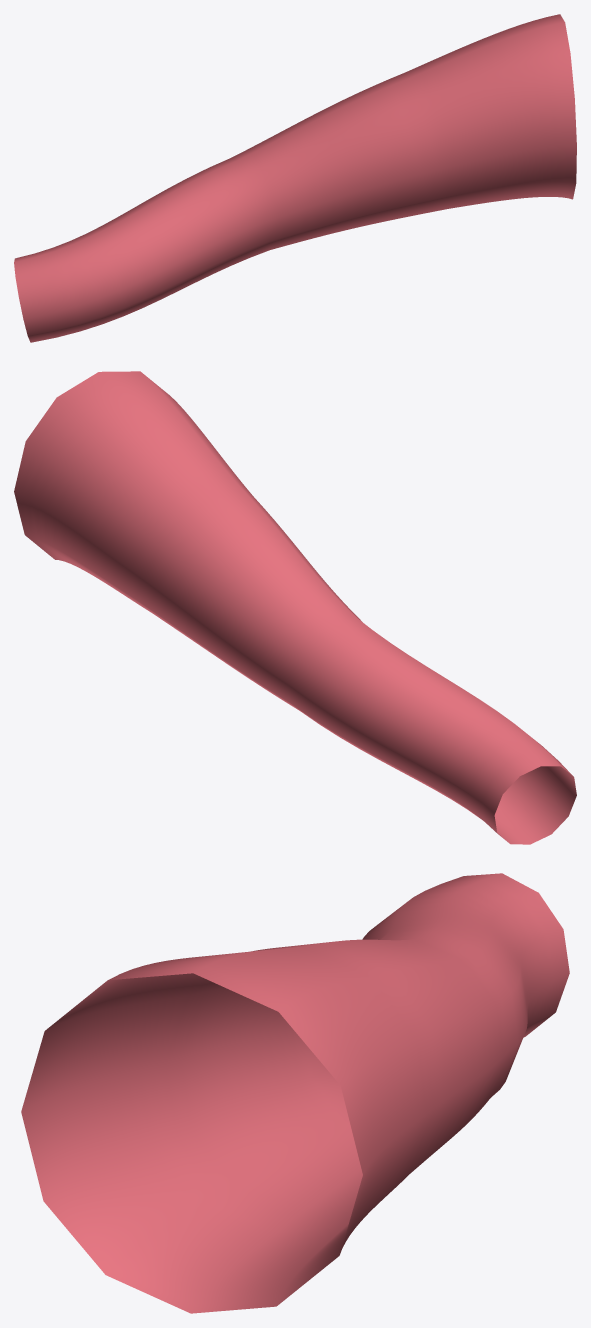
The picture shows the model from 3 angles, top to bottom: view 1: azimuth 30°, elevation 25°; view 2: azimuth 150°, elevation 25°; view 3: azimuth 270°, elevation 25°; orthographic projection. The views are drawn at different scales.
Parts seen in each view (by area): view 1: ZA_2ef883c921073944; view 2: ZA_2ef883c921073944; view 3: ZA_2ef883c921073944.
Part boxes in pixels (<box>): ZA_2ef883c921073944: <box>14,14,576,342</box>; ZA_2ef883c921073944: <box>14,371,576,844</box>; ZA_2ef883c921073944: <box>21,873,569,1313</box>.
Bounding box in the file's own units: 0.0418 × 0.0198 × 0.0191.
